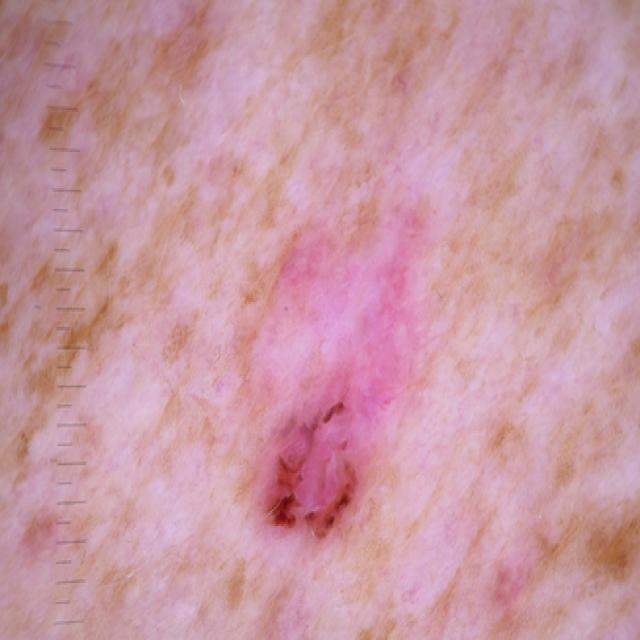Carcinoma: (152, 157, 503, 640)
